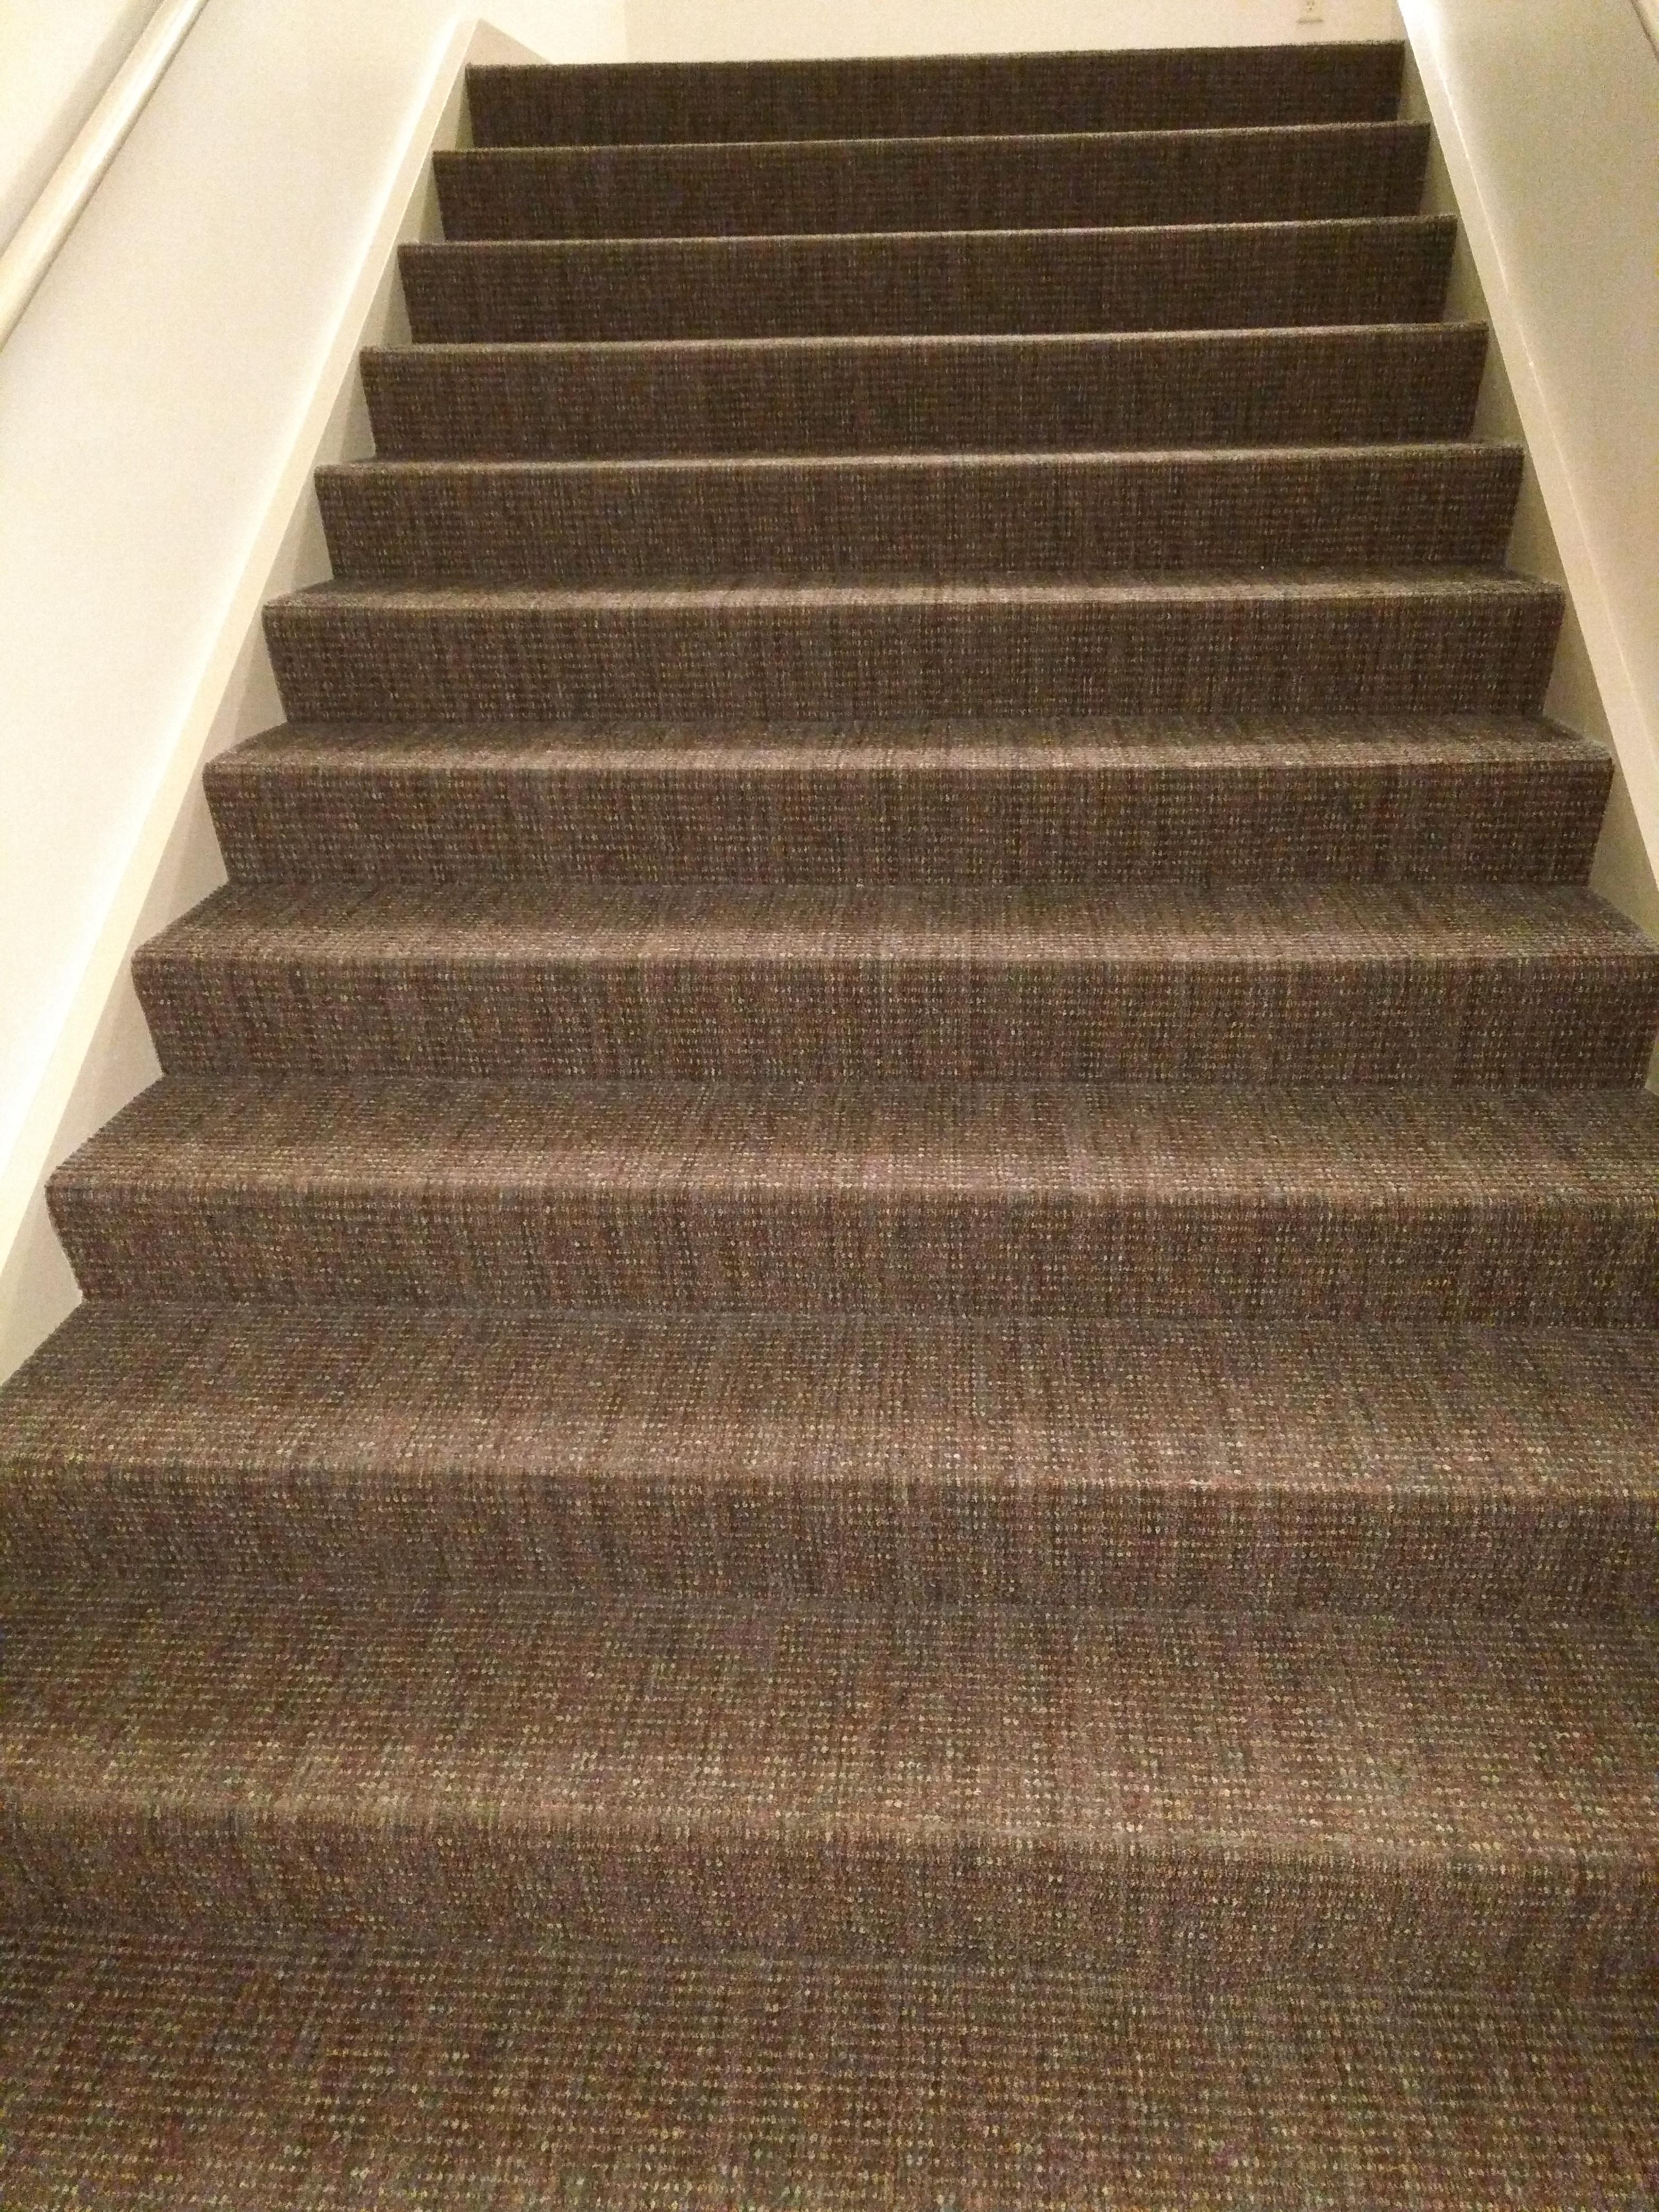stairs_up: (17, 23, 1659, 2003)
